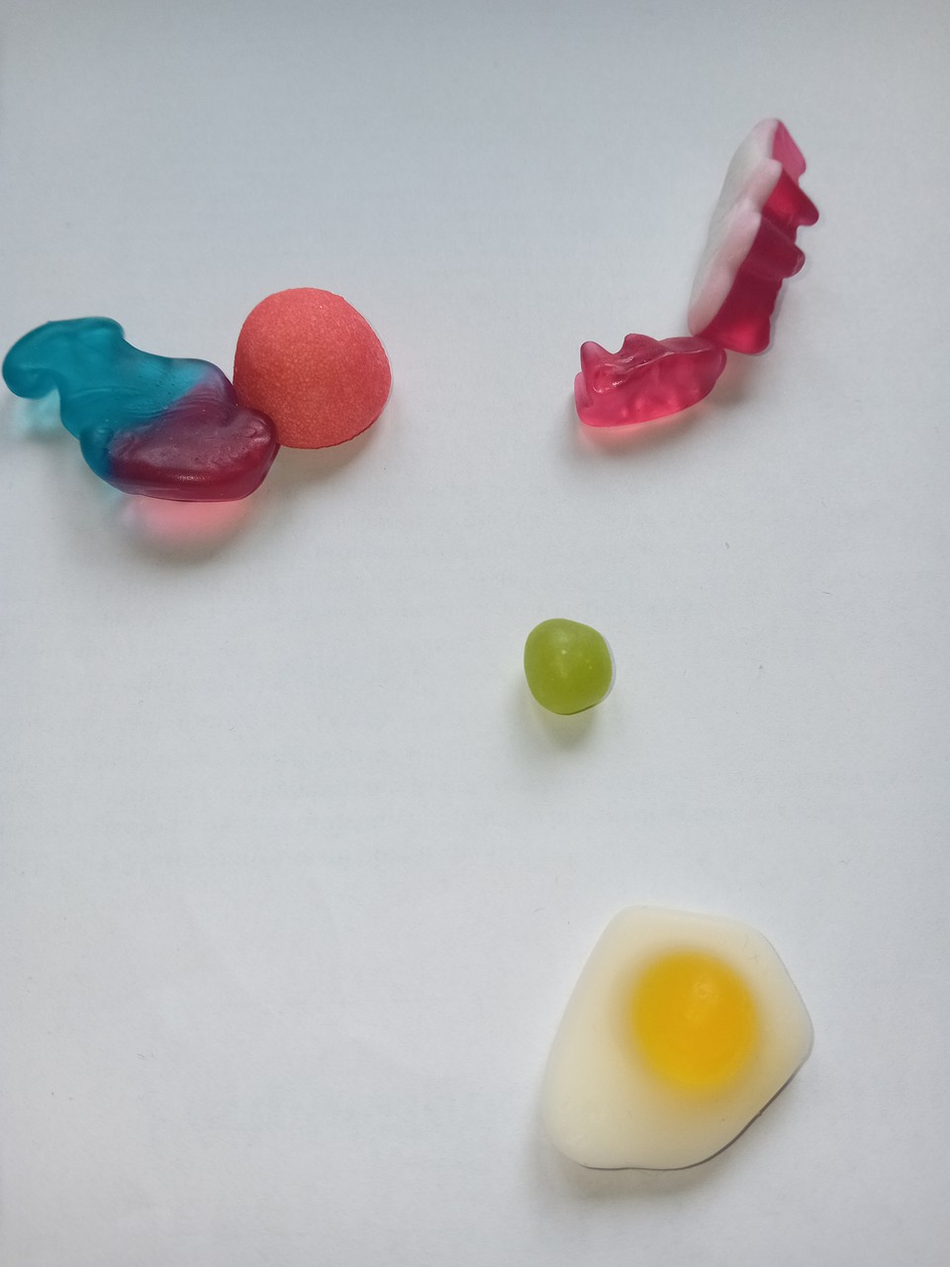crocodile_rouge: (686, 113, 819, 358)
dragibus_vert: (515, 614, 621, 718)
oeuf_oeuf: (536, 896, 817, 1184)
ourson_rouge: (560, 329, 727, 430)
schtroumpf_bleu-rouge: (4, 311, 281, 506)
tagada_fraise: (230, 284, 394, 450)
